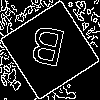B: (25, 25, 68, 77)
